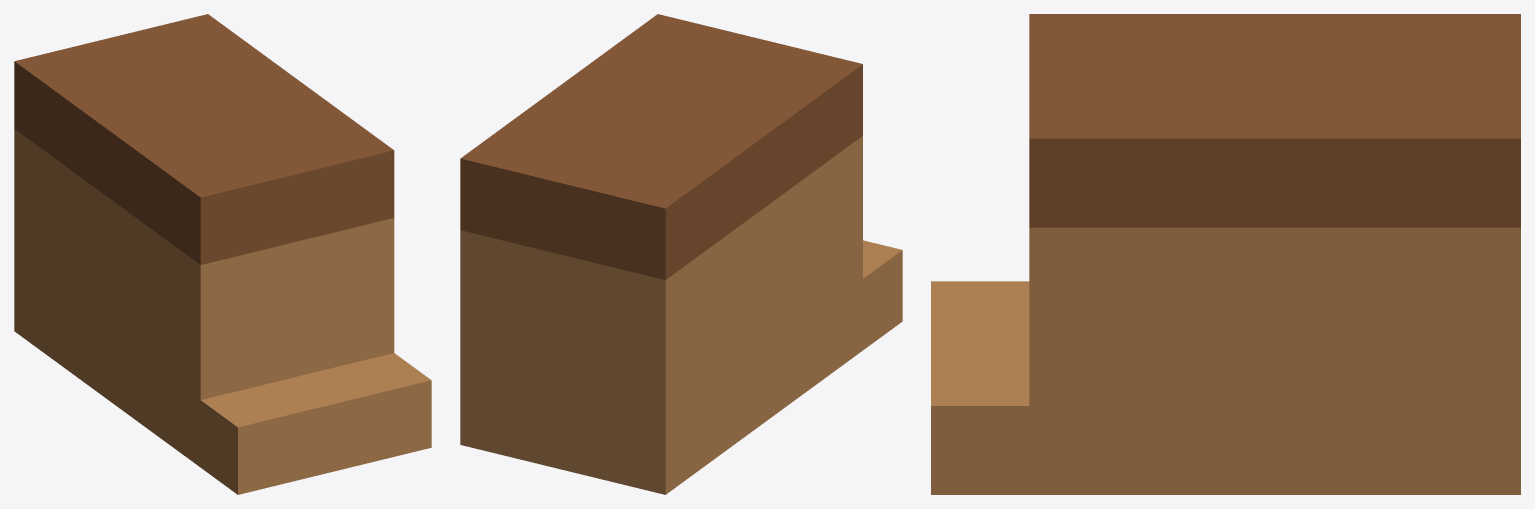
File: ranger__leg_r.glb
The picture shows the model from 3 angles, left to right: view 1: azimuth 30°, elevation 25°; view 2: azimuth 150°, elevation 25°; view 3: azimuth 270°, elevation 25°; orthographic projection. The views are drawn at different scales.
Visible parts, largest first — view 1: ranger__leg_r; view 2: ranger__leg_r; view 3: ranger__leg_r.
Part boxes in pixels (<box>): ranger__leg_r: <box>14,14,431,494</box>; ranger__leg_r: <box>460,14,902,494</box>; ranger__leg_r: <box>931,14,1520,494</box>.
Bounding box in the file's own units: 0.3 × 0.4 × 0.6.
Materials: 1 (1 with a texture image).
